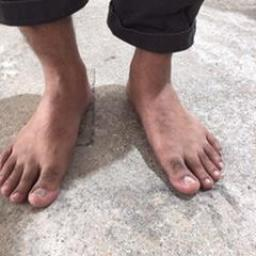Front View -Both Feet-: (1, 37, 232, 222)
